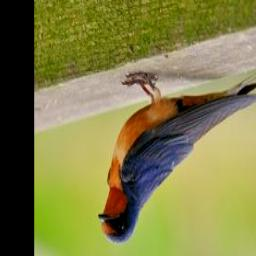Swallow: (93, 62, 256, 251)
